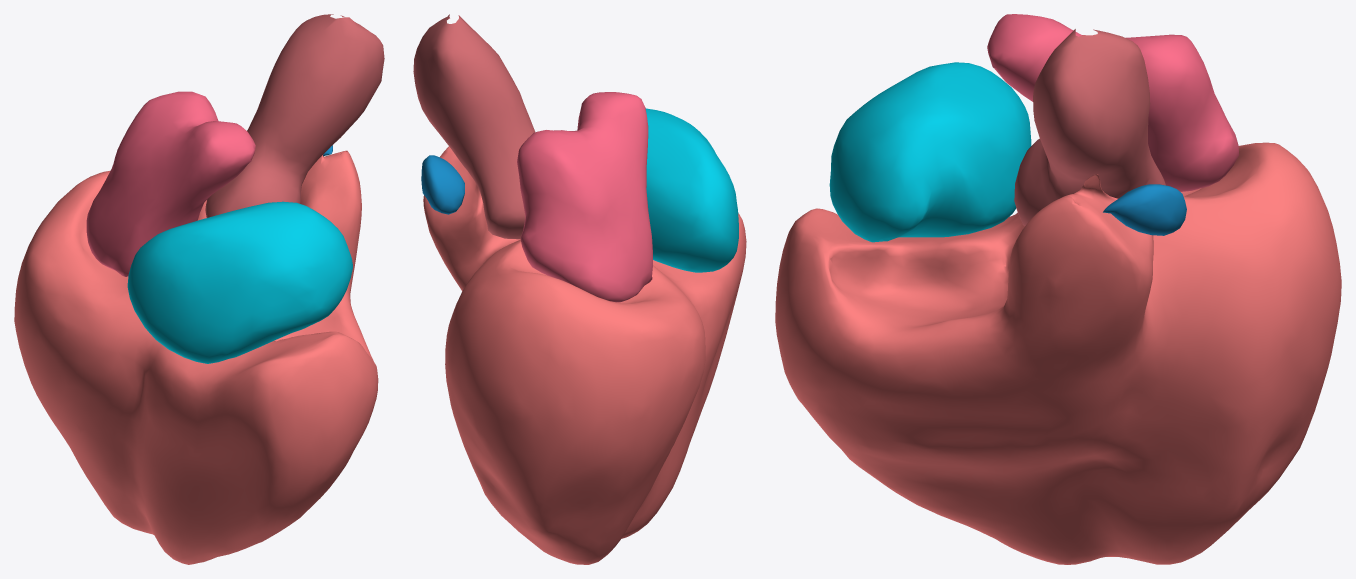
The model's file is frame_59.glb.
The picture shows the model from 3 angles, left to right: view 1: azimuth 30°, elevation 25°; view 2: azimuth 150°, elevation 25°; view 3: azimuth 270°, elevation 25°; orthographic projection. The views are drawn at different scales.
Parts seen in each view (by area): view 1: Renderer Node; view 2: Renderer Node; view 3: Renderer Node.
Part boxes in pixels (x1,y1,x2,y2): Renderer Node: (14, 14, 384, 564); Renderer Node: (413, 14, 746, 564); Renderer Node: (775, 14, 1341, 564).
Size of the model in its own units: 103 by 158 by 128.
